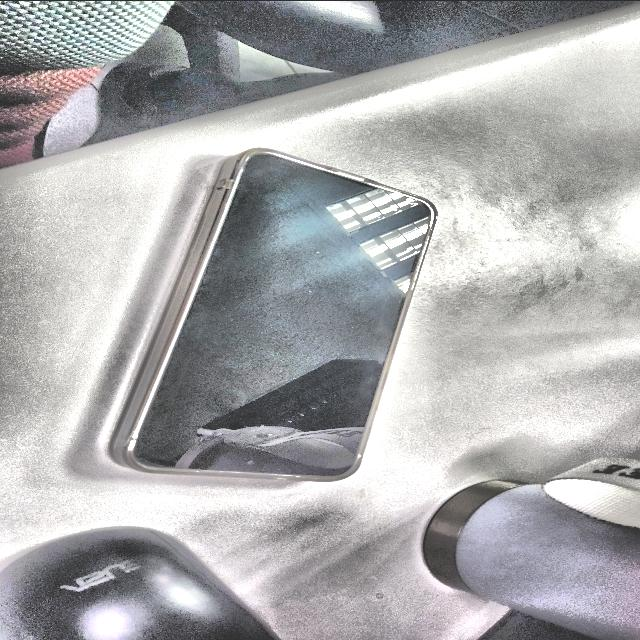MOUSE: (0, 528, 278, 640)
PHONE: (112, 148, 435, 480)
